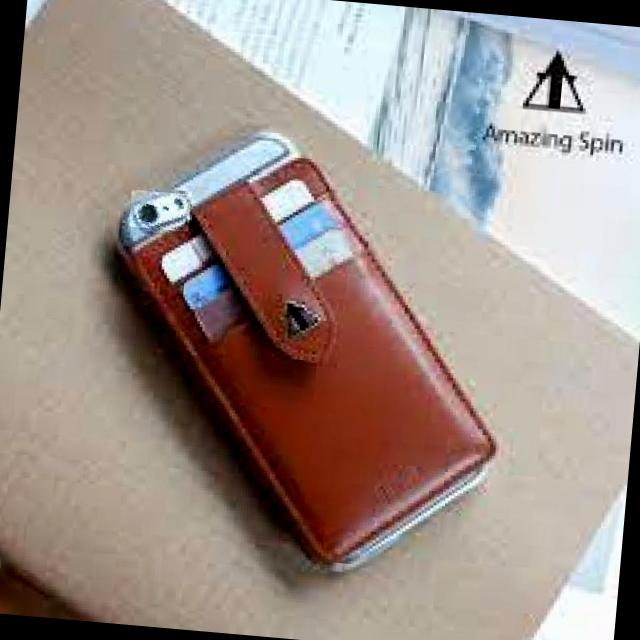lens_back: (128, 200, 162, 230)
